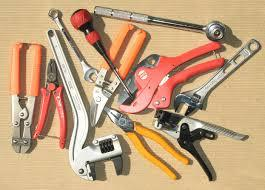wrench: (44, 27, 124, 181)
